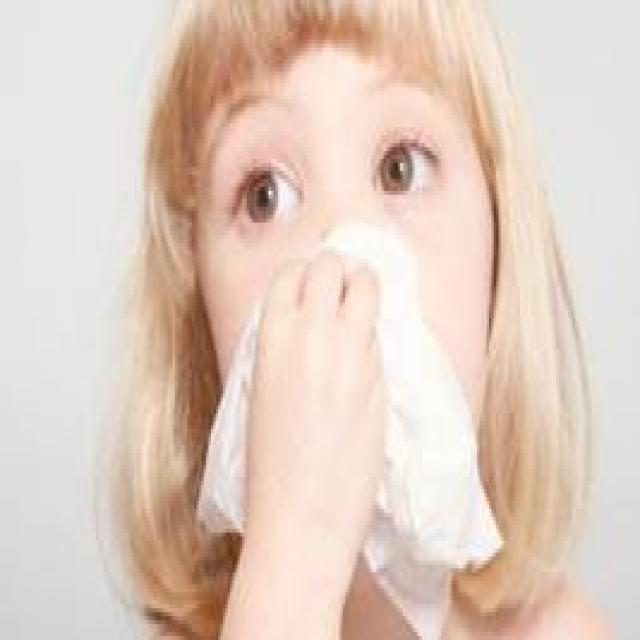nomask: (204, 32, 482, 556)
